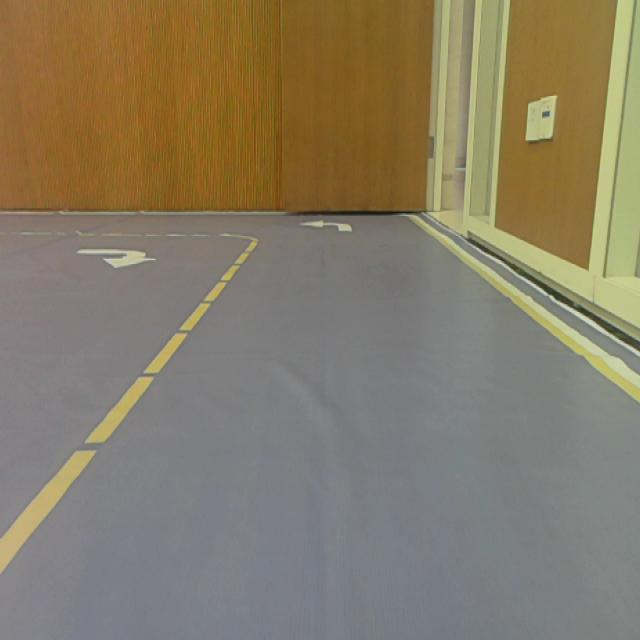left_lane: (0, 242, 257, 574)
right_lane: (408, 214, 640, 404)
